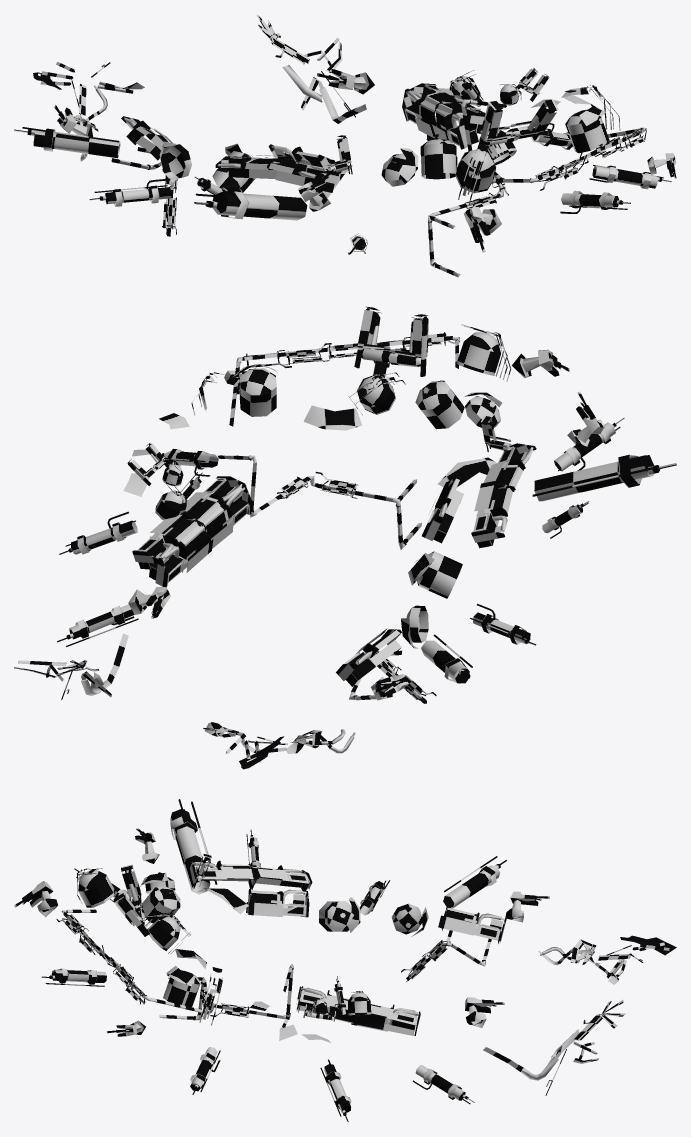
Rendered from pirate_base_technical_elements.obj.
3 views of the same model, one above another, from view 1: azimuth 30°, elevation 25°; view 2: azimuth 150°, elevation 25°; view 3: azimuth 270°, elevation 25° (orthographic). The views are drawn at different scales.
Visible parts, largest first — view 1: pirate_base_technical_element; view 2: pirate_base_technical_element; view 3: pirate_base_technical_element.
Boxes of the visible parts, x1=… form: pirate_base_technical_element: x1=14, y1=14, x2=676, y2=277; pirate_base_technical_element: x1=14, y1=306, x2=676, y2=769; pirate_base_technical_element: x1=14, y1=799, x2=676, y2=1121.
Bounding box in the file's own units: 2343 × 986 × 3167.
Materials: 1 (1 with a texture image).
